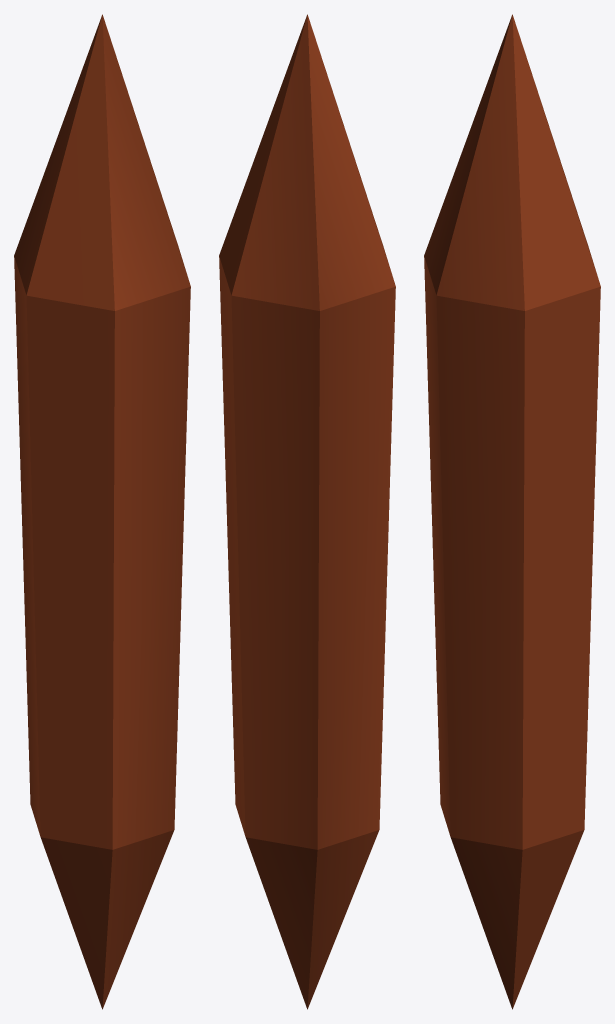
File: HuTao_ParamitaPapilioState_ButterflyBody.fbx
3 renders of one model, left to right at view 1: azimuth 30°, elevation 25°; view 2: azimuth 150°, elevation 25°; view 3: azimuth 270°, elevation 25°, orthographic.
Parts seen in each view (by area): view 1: PART_FireButterflySlenderBody; view 2: PART_FireButterflySlenderBody; view 3: PART_FireButterflySlenderBody.
Part boxes in pixels (x1,y1,x2,y2): PART_FireButterflySlenderBody: [14, 14, 190, 1009]; PART_FireButterflySlenderBody: [219, 14, 395, 1009]; PART_FireButterflySlenderBody: [424, 14, 600, 1009].
Bounding box in the file's own units: 5.35 × 31 × 4.99.
